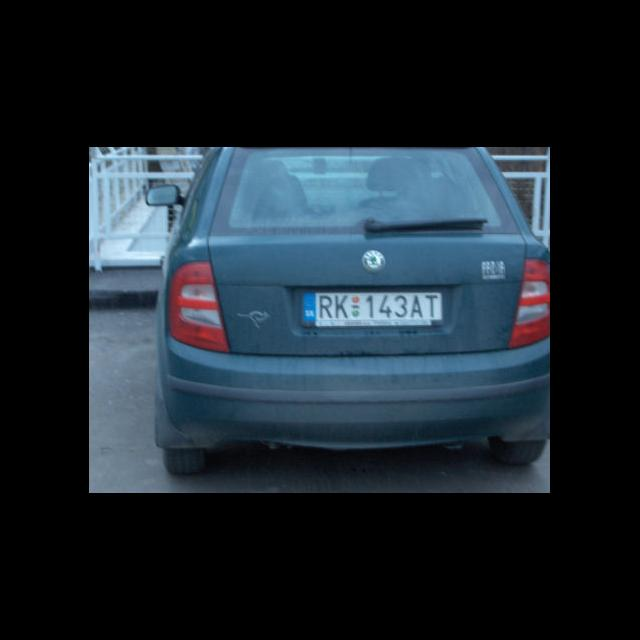Plate: (300, 288, 446, 328)
